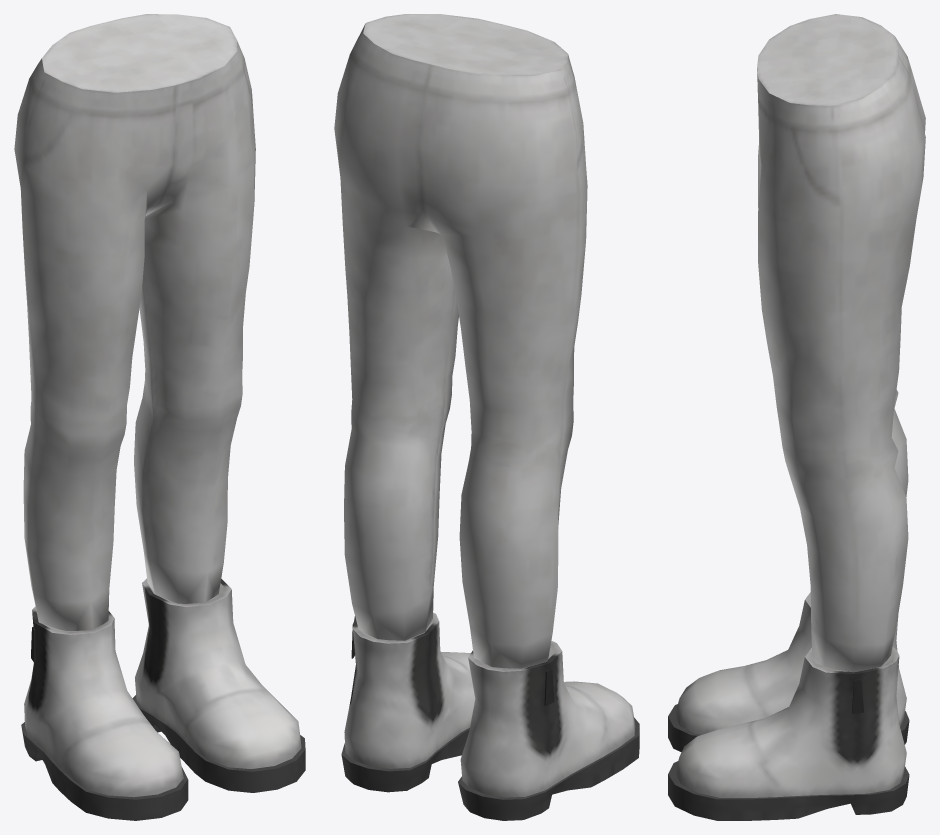
Rendered from tr0730_00_lwb03.gltf.
The picture shows the model from 3 angles, left to right: view 1: azimuth 30°, elevation 25°; view 2: azimuth 150°, elevation 25°; view 3: azimuth 270°, elevation 25°; orthographic projection. The views are drawn at different scales.
Parts seen in each view (by area): view 1: lwb03_lowerbody_mesh_shape:lowerbody03, lwb03_shoes_mesh_shape:lowerbody03; view 2: lwb03_lowerbody_mesh_shape:lowerbody03, lwb03_shoes_mesh_shape:lowerbody03; view 3: lwb03_lowerbody_mesh_shape:lowerbody03, lwb03_shoes_mesh_shape:lowerbody03.
Part boxes in pixels (box(x1,y1,x2,y2)): lwb03_lowerbody_mesh_shape:lowerbody03: box(14, 14, 255, 630); lwb03_shoes_mesh_shape:lowerbody03: box(21, 578, 305, 820); lwb03_lowerbody_mesh_shape:lowerbody03: box(334, 14, 587, 668); lwb03_shoes_mesh_shape:lowerbody03: box(341, 612, 639, 820); lwb03_lowerbody_mesh_shape:lowerbody03: box(757, 14, 925, 672); lwb03_shoes_mesh_shape:lowerbody03: box(668, 592, 909, 820).
Size of what is drawn, in the model's own units: 0.3285 by 0.9678 by 0.3164.
Materials: 1 (1 with a texture image).
